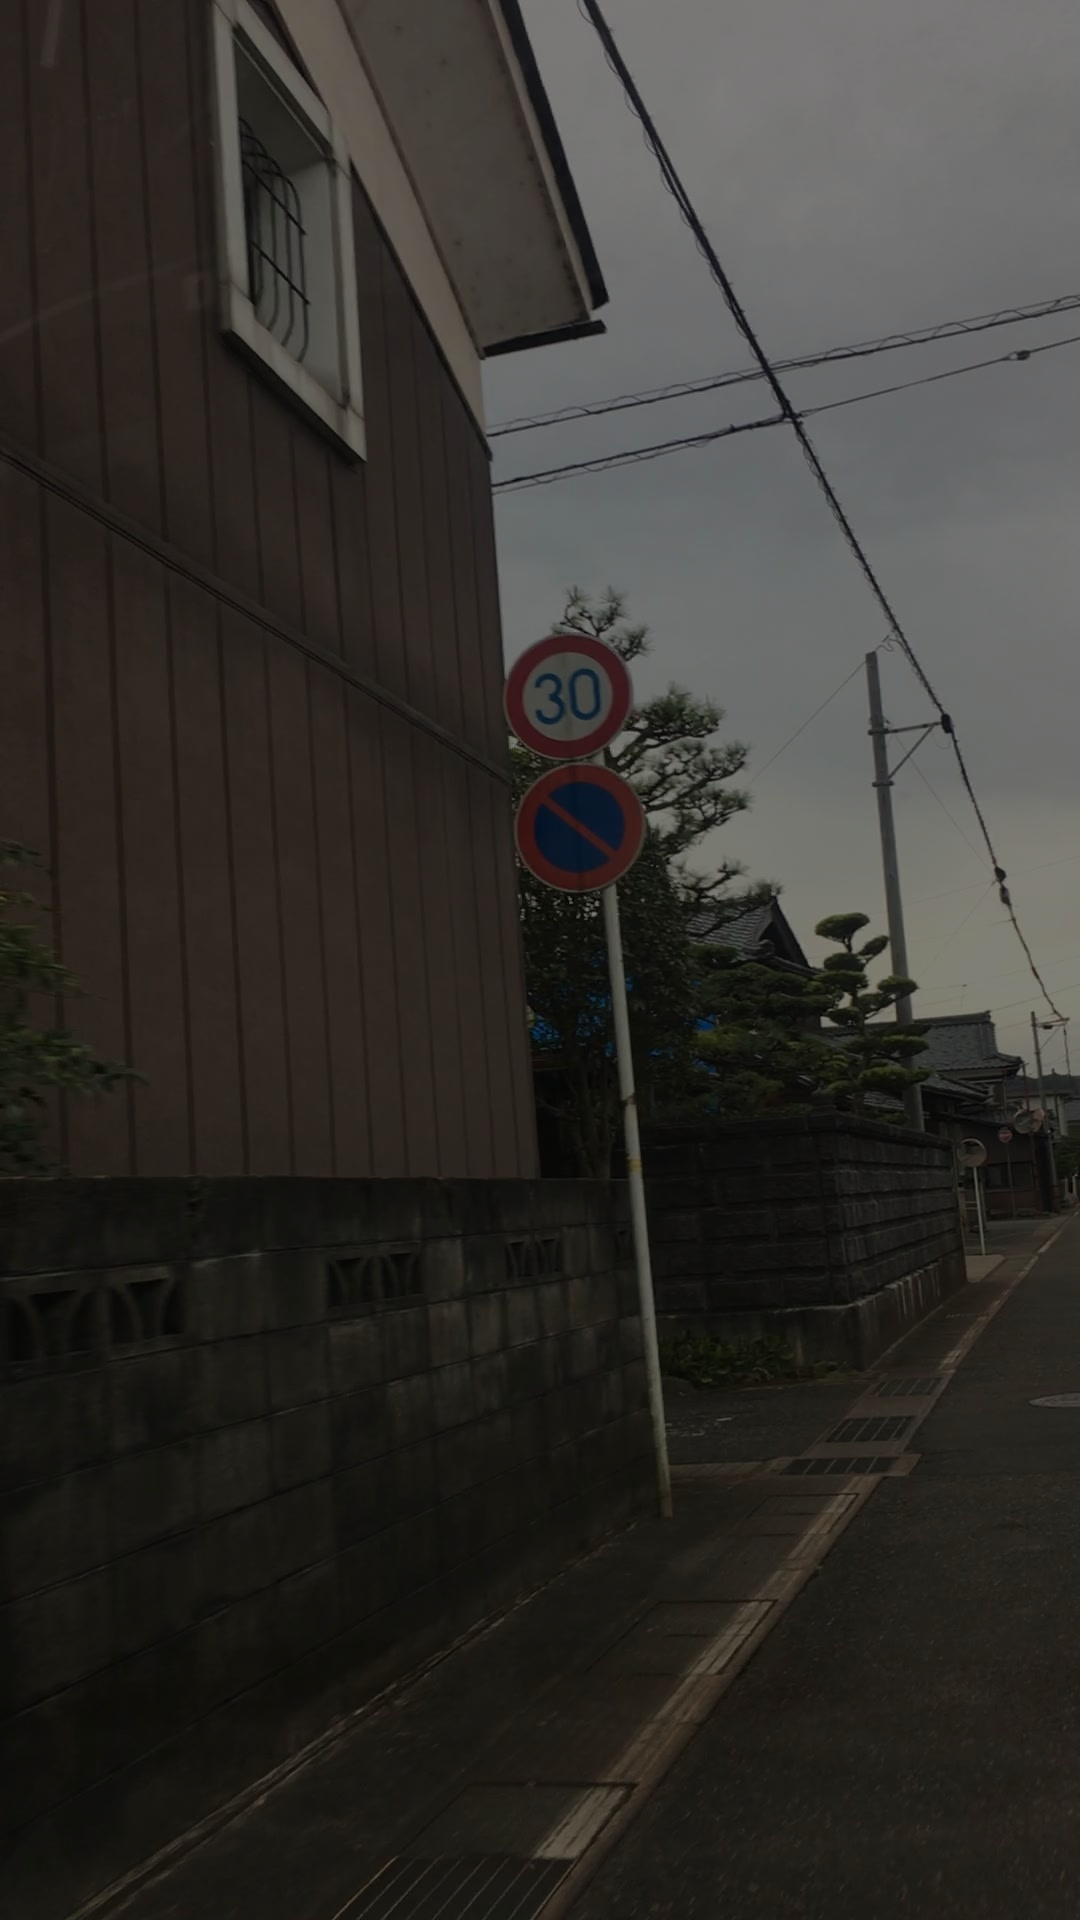Prohibition_sign: (502, 758, 642, 906)
Speed_sign: (498, 636, 644, 771)
